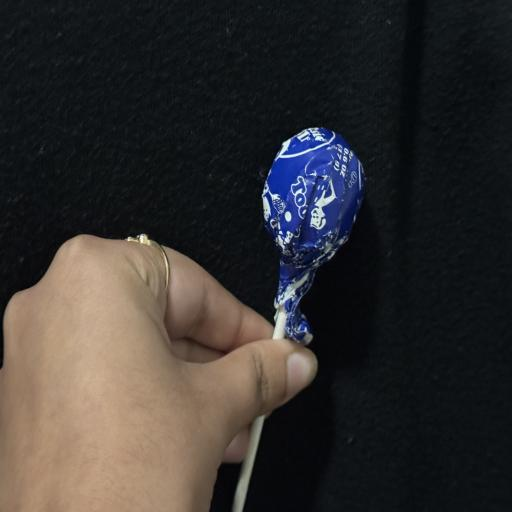chocolate: (262, 127, 365, 345)
